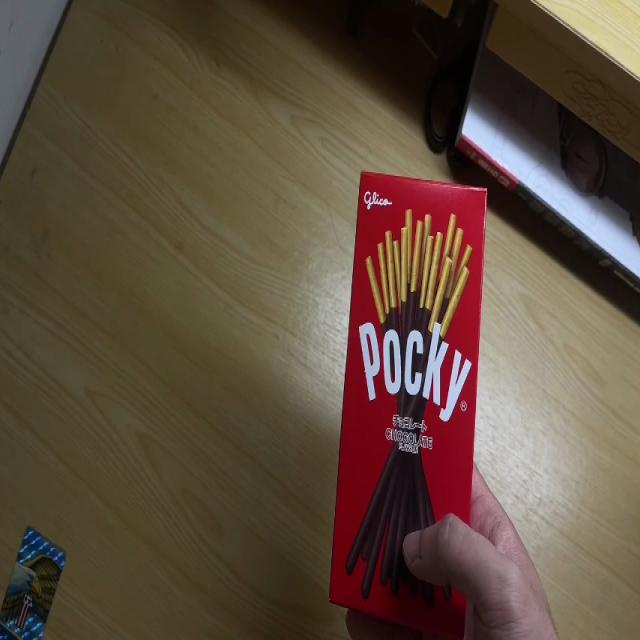Pocky: (328, 167, 488, 640)
